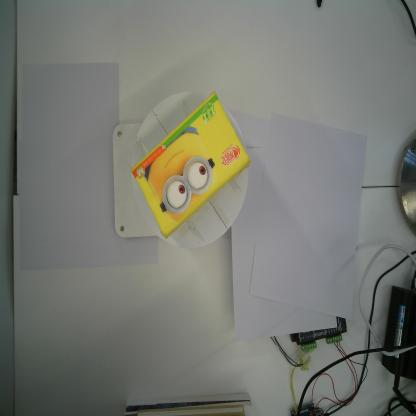Tissue: (130, 91, 250, 240)
